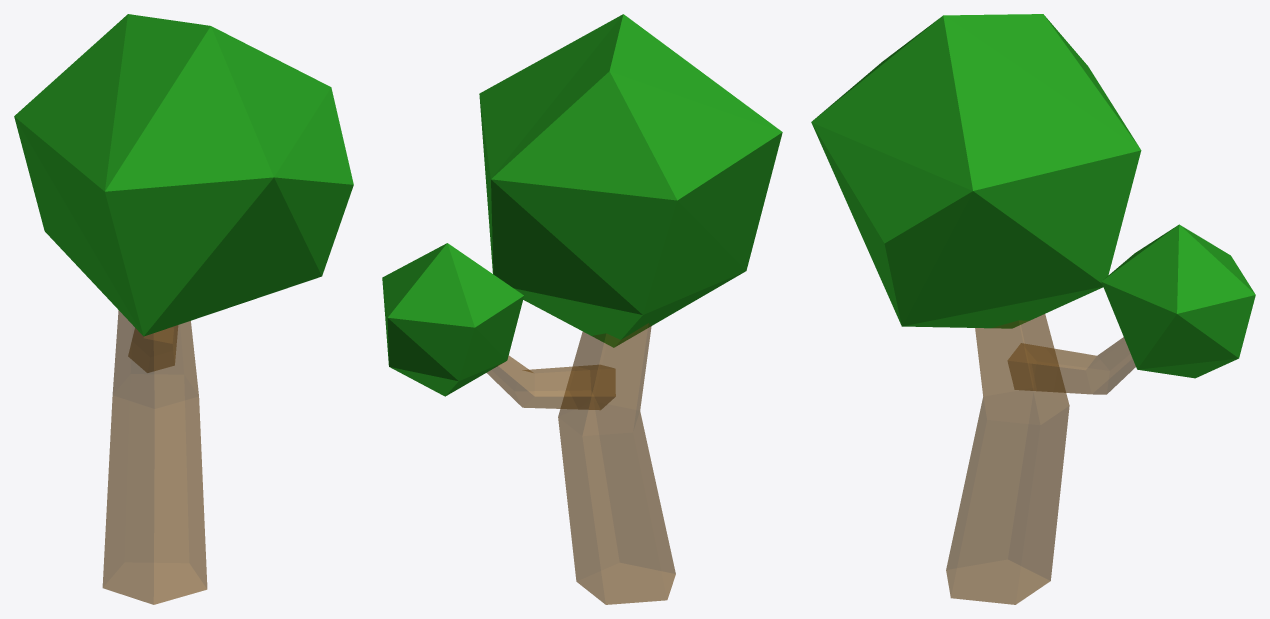
Rendered from tree.dae.
3 views of the same model, side by side, from view 1: azimuth 30°, elevation 25°; view 2: azimuth 150°, elevation 25°; view 3: azimuth 270°, elevation 25° (orthographic). The views are drawn at different scales.
Visible parts, largest first — view 1: Icosphere_001_014, Cylinder_001_014; view 2: Icosphere_001_014, Cylinder_001_014, Icosphere_002_014; view 3: Icosphere_001_014, Cylinder_001_014, Icosphere_002_014.
Boxes of the visible parts, box(x1,y1,x2,y2) form: Icosphere_001_014: box(14, 14, 353, 336); Cylinder_001_014: box(102, 310, 207, 604); Icosphere_001_014: box(479, 14, 782, 347); Cylinder_001_014: box(487, 323, 675, 604); Icosphere_002_014: box(382, 243, 523, 396); Icosphere_001_014: box(811, 14, 1141, 328); Cylinder_001_014: box(946, 314, 1135, 604); Icosphere_002_014: box(1101, 224, 1255, 378).
Bounding box in the file's own units: 6.96 × 9.58 × 13.85.
